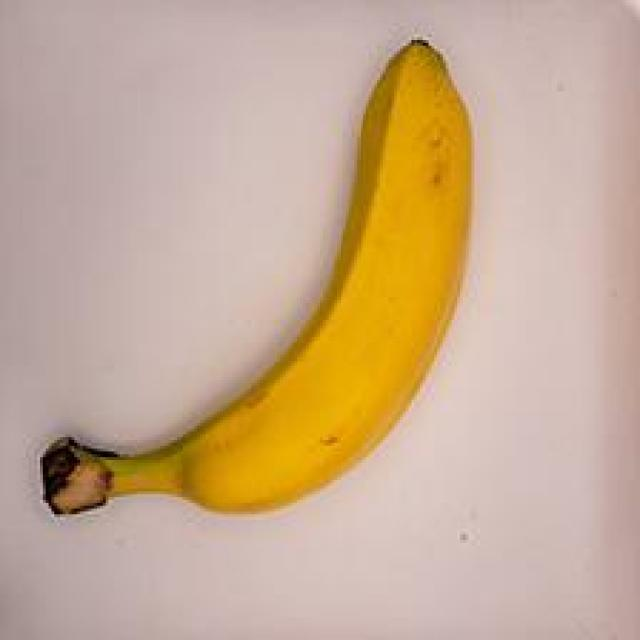Ripe: (26, 29, 507, 543)
